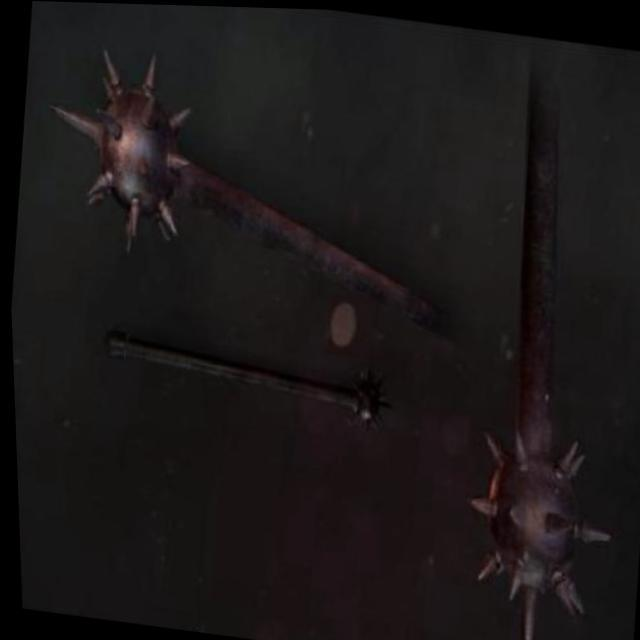weapon: (27, 37, 464, 330), (433, 63, 640, 640)
